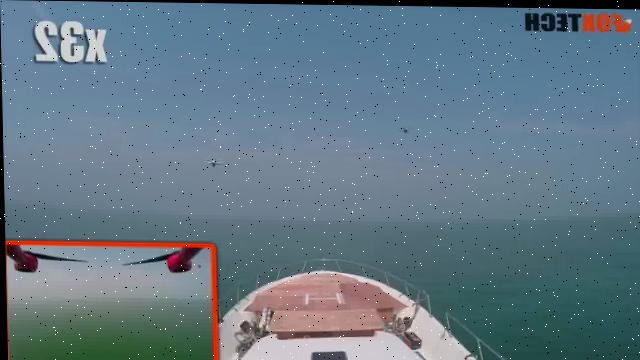drone: (202, 151, 227, 174), (396, 122, 415, 137)
